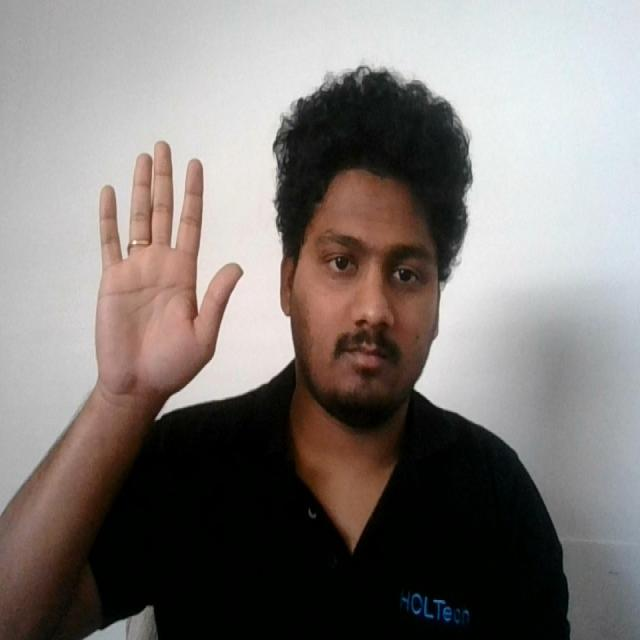Hello: (89, 133, 247, 417)
